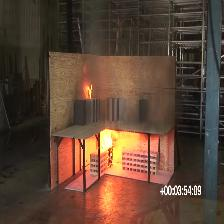fire: (102, 127, 142, 165), (83, 81, 93, 99)
